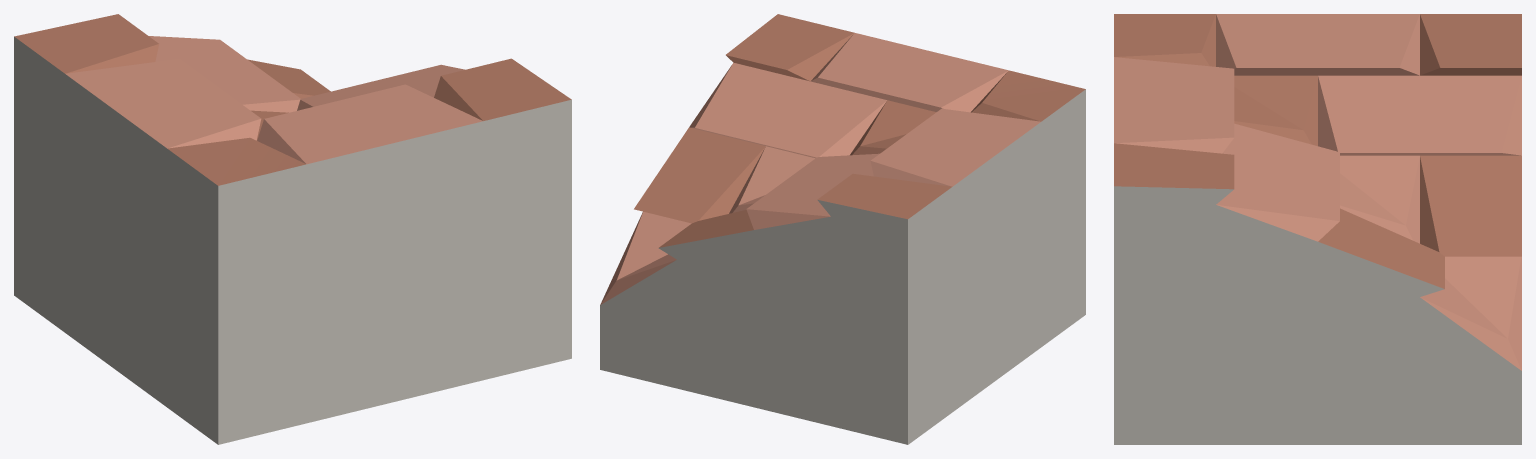
The model's file is Roof_Convex_Corner_Inner.glb.
The picture shows the model from 3 angles, left to right: view 1: azimuth 30°, elevation 25°; view 2: azimuth 150°, elevation 25°; view 3: azimuth 270°, elevation 25°; orthographic projection. The views are drawn at different scales.
Visible parts, largest first — view 1: object1; view 2: object1; view 3: object1.
Part boxes in pixels (x1,y1,x2,y2): object1: (14, 14, 571, 444); object1: (600, 14, 1085, 444); object1: (1114, 14, 1521, 444).
Bounding box in the file's own units: 1 × 0.7 × 1.
